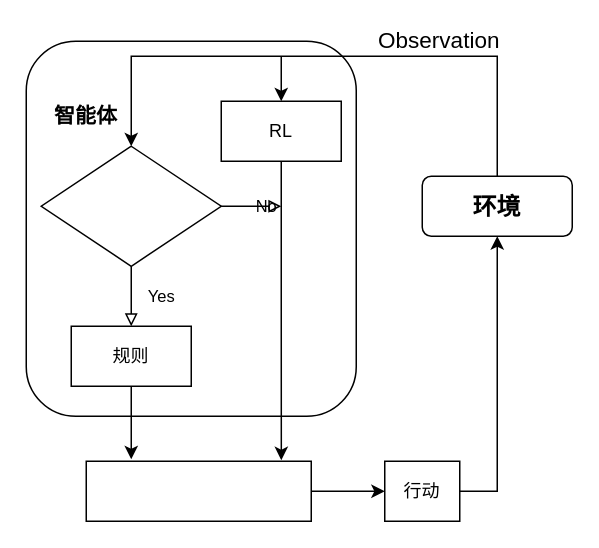
Some shapes in this 599 by 548 pixel diagram are drawn without their labels. The centre of each missing label's shape, as x and y in pixels:
"Min（油门） Max（刹车）" belongs at (x=198, y=490).
"危险情况" belongs at (x=130, y=205).
